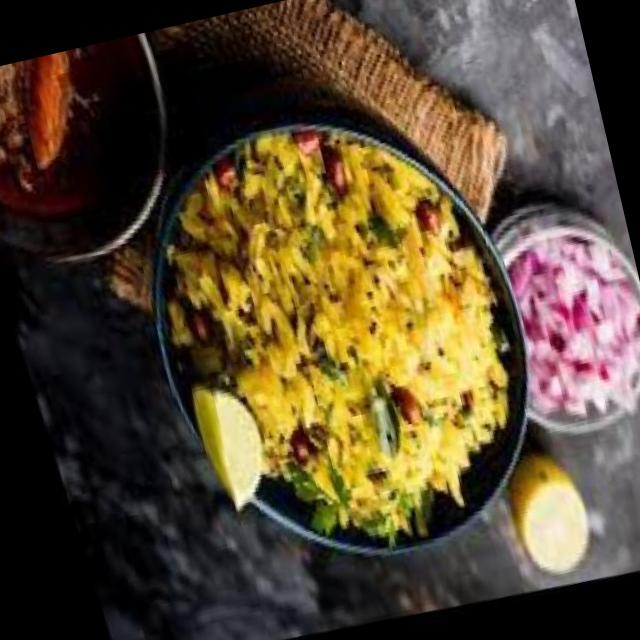poha: (116, 87, 552, 588)
